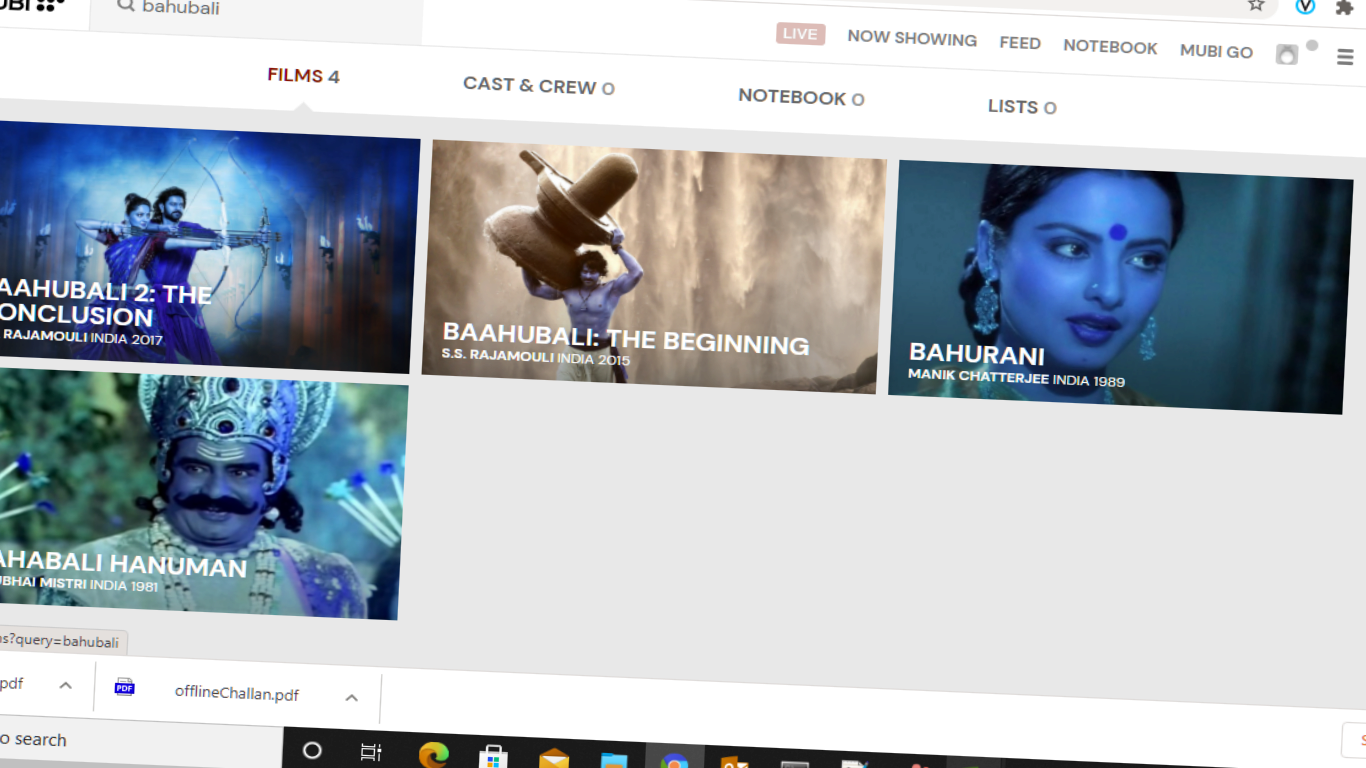searchtextbox: (91, 1, 420, 49)
